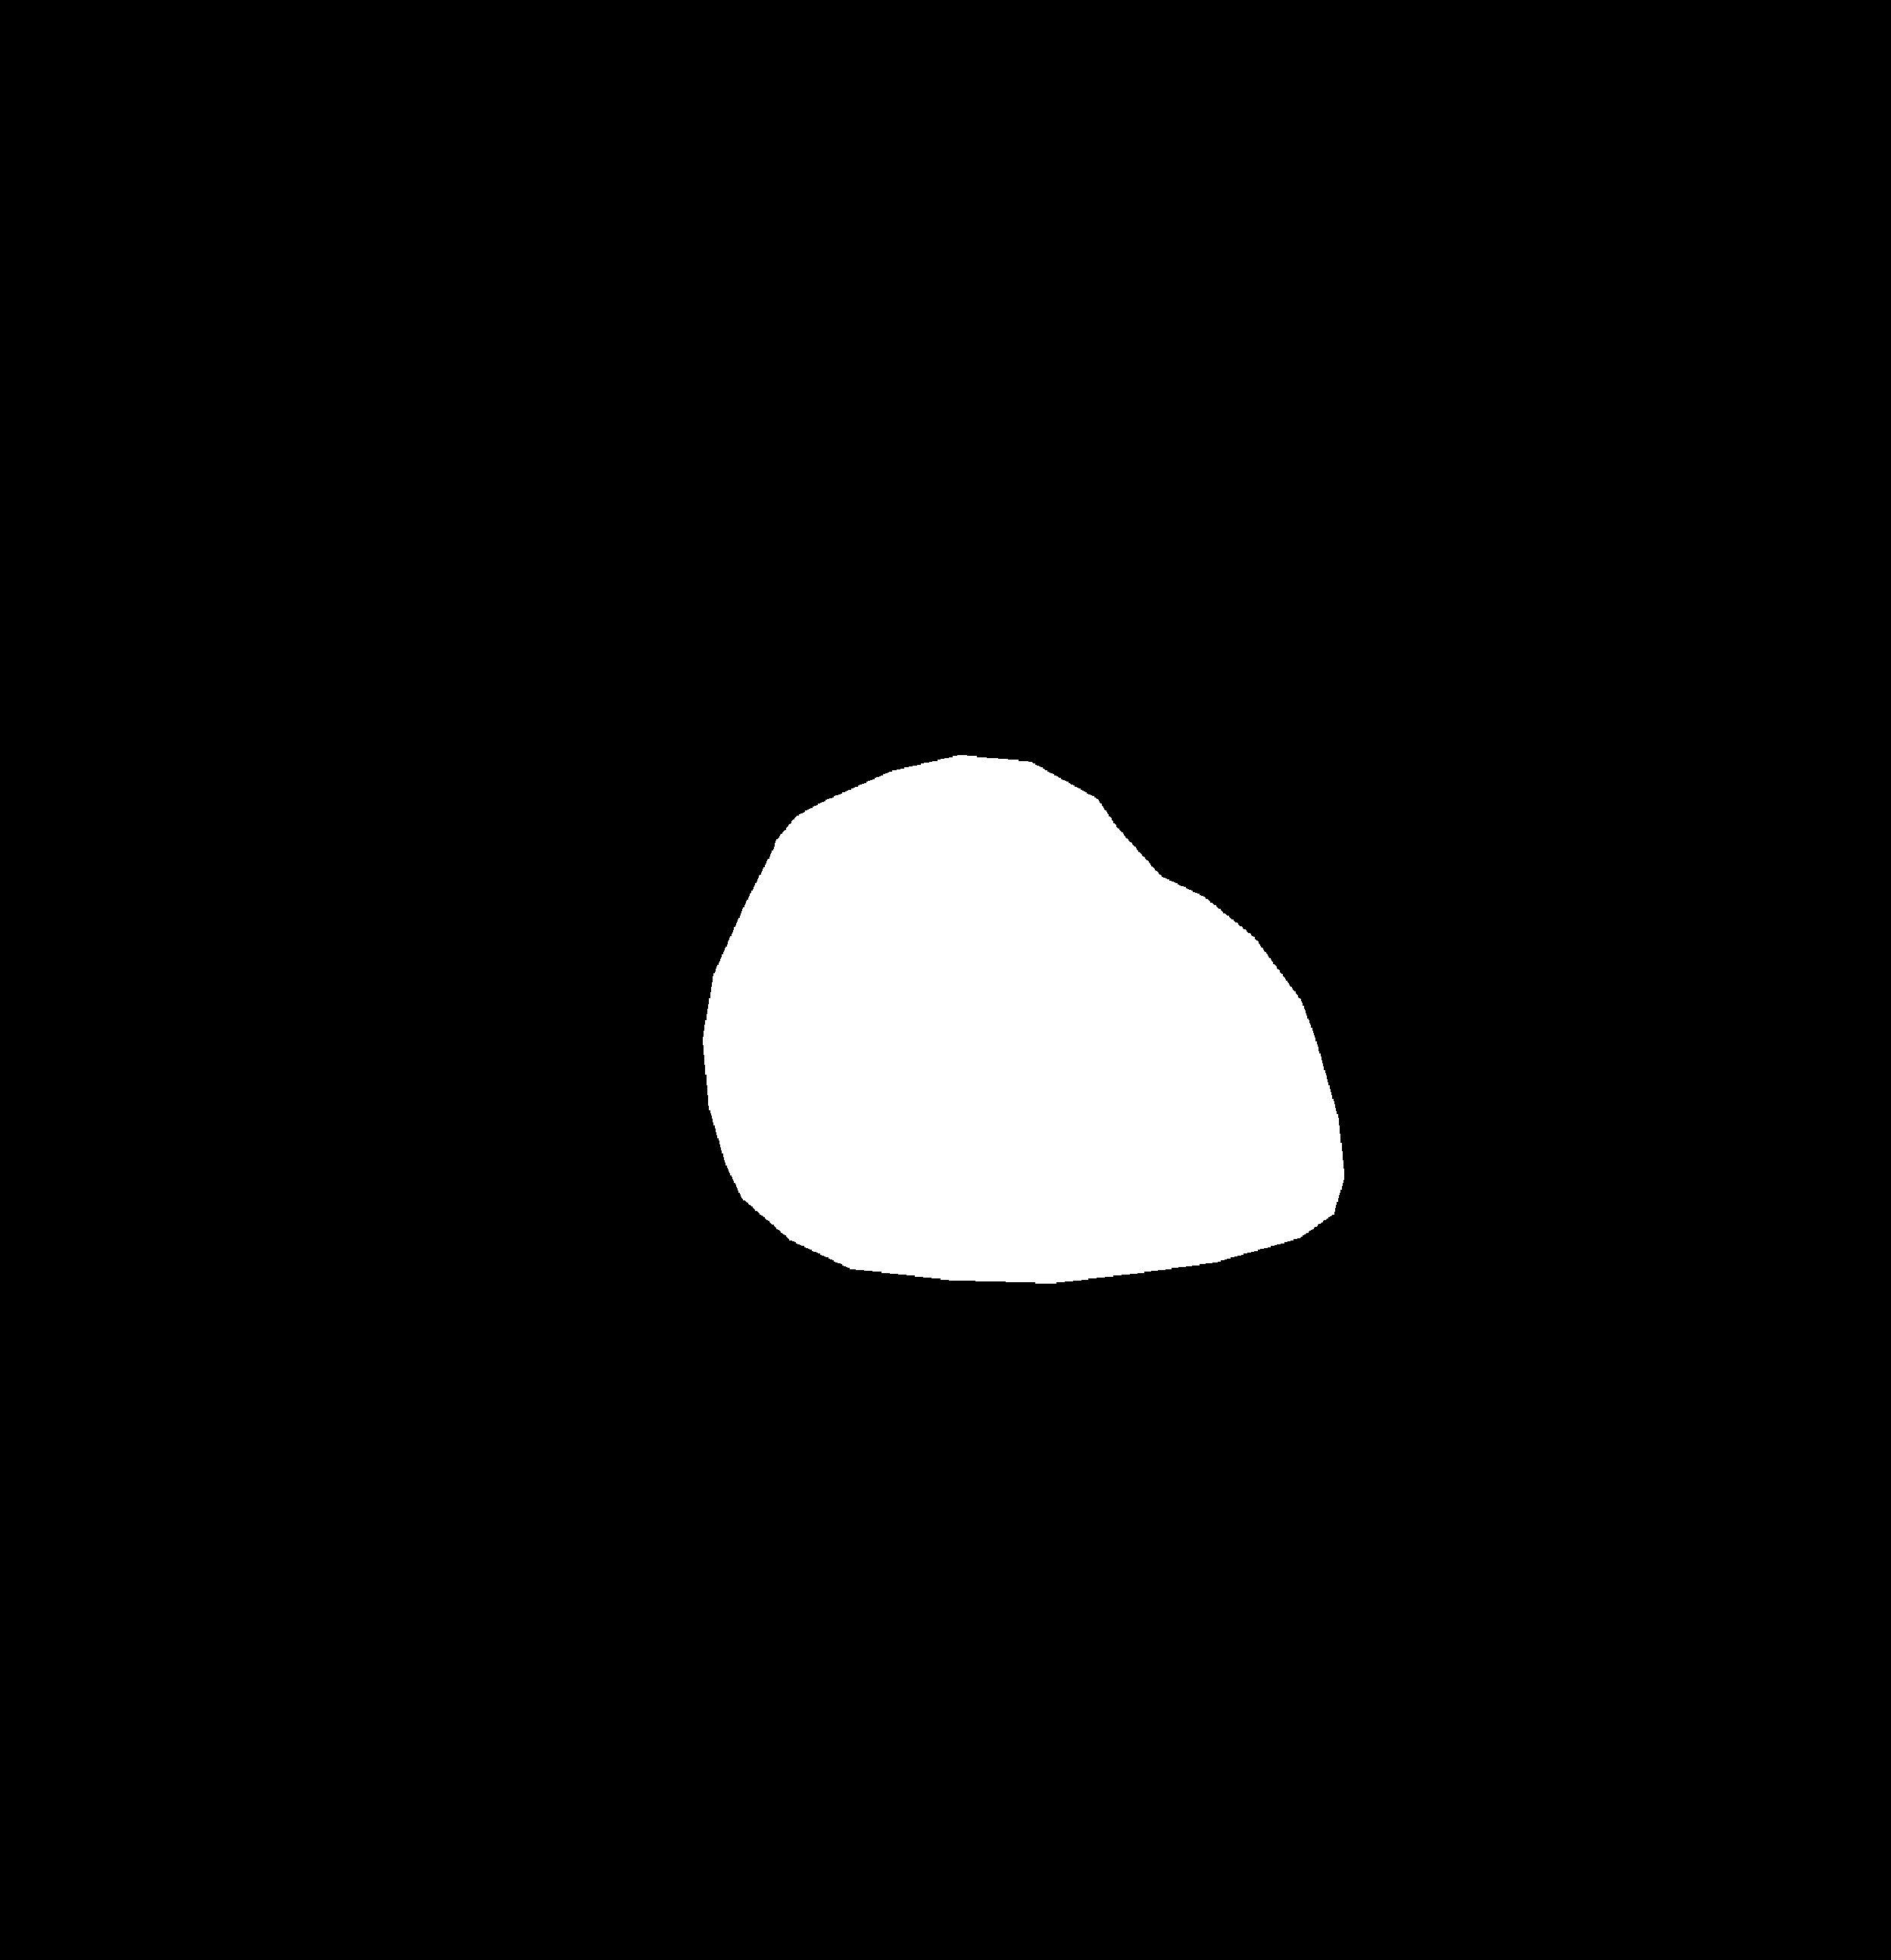heart: (703, 843, 1349, 1274)
left_lung: (248, 280, 834, 1316)
right_lung: (960, 252, 1601, 1311)
